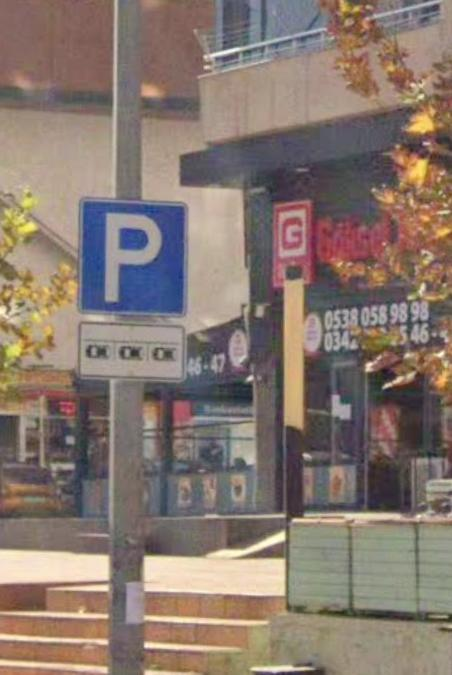park: (85, 193, 193, 320)
